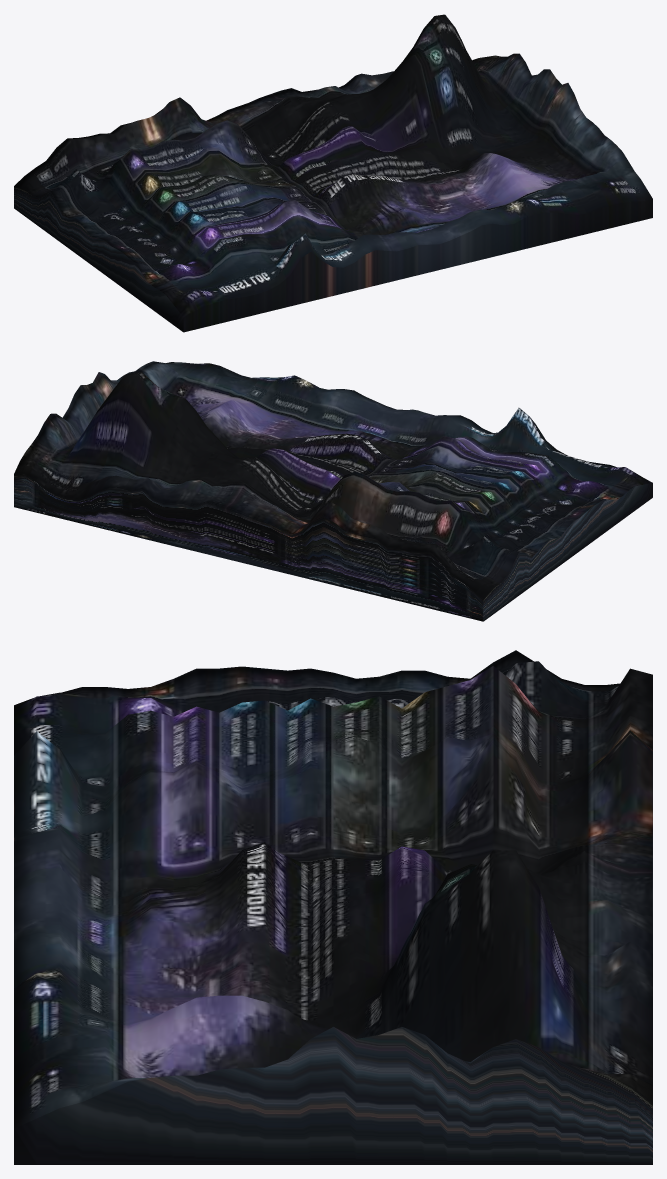
File: UI_10_Quest_Log.glb
3 views of the same model, one above another, from view 1: azimuth 30°, elevation 25°; view 2: azimuth 150°, elevation 25°; view 3: azimuth 270°, elevation 25° (orthographic). The views are drawn at different scales.
Parts seen in each view (by area): view 1: UI_10_Quest_Log; view 2: UI_10_Quest_Log; view 3: UI_10_Quest_Log.
Part boxes in pixels (x1,y1,x2,y2): UI_10_Quest_Log: (14, 14, 652, 332); UI_10_Quest_Log: (14, 361, 652, 621); UI_10_Quest_Log: (14, 650, 652, 1164).
Size of the model in its own units: 2 by 0.51 by 1.25.
1 material, 1 textured.
